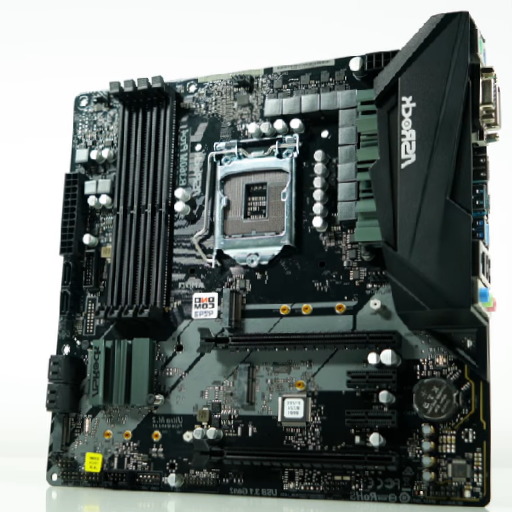CPU: (215, 132, 299, 267)
GPU: (190, 438, 399, 472), (196, 327, 402, 353)
MOTHERBOARD: (47, 49, 485, 503)
RAM: (95, 76, 176, 325)
SSD: (220, 288, 244, 331), (233, 363, 256, 405)
